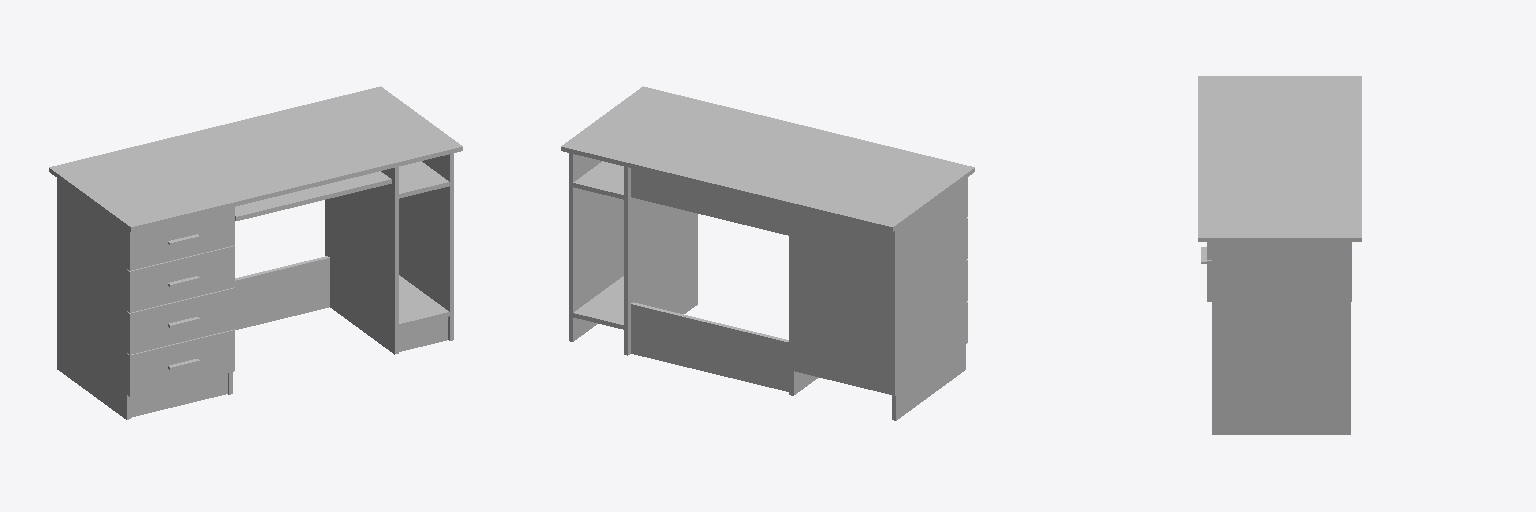
The model's file is Computer desk.obj.
3 renders of one model, left to right at view 1: azimuth 30°, elevation 25°; view 2: azimuth 150°, elevation 25°; view 3: azimuth 270°, elevation 25°, orthographic.
Size of the model in its own units: 1.4 by 0.798 by 0.6.